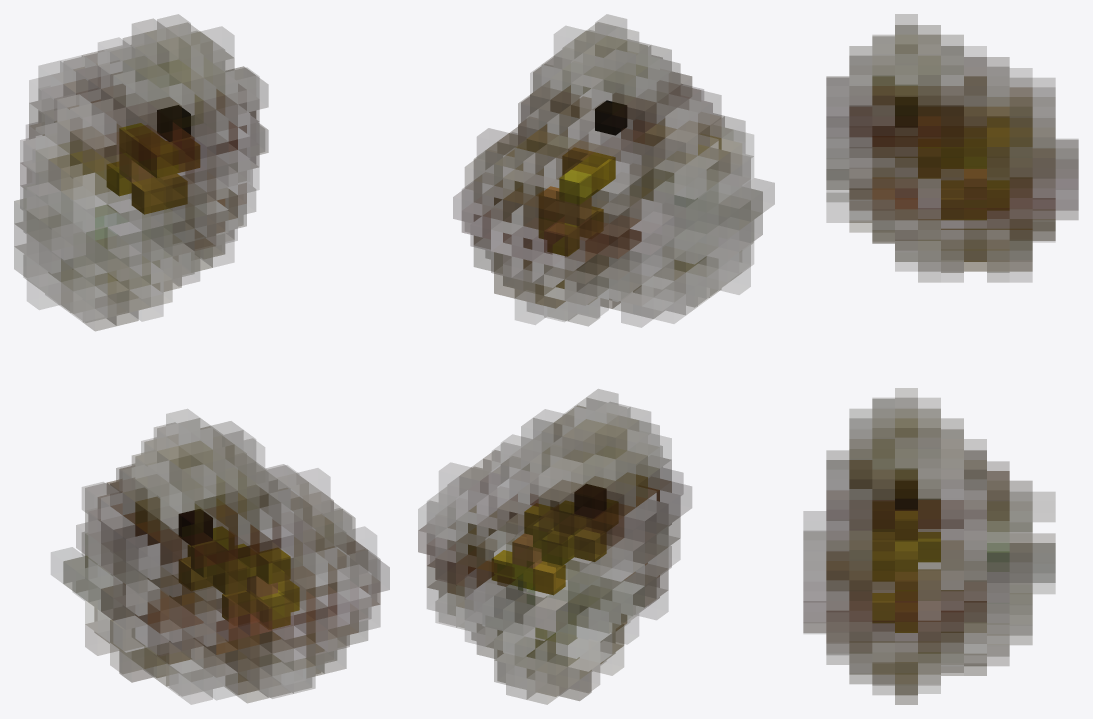
The model's file is iter_15.obj.
3 views of the same model, side by side, from view 1: azimuth 30°, elevation 25°; view 2: azimuth 150°, elevation 25°; view 3: azimuth 270°, elevation 25° (orthographic). The views are drawn at different scales.
Visible parts, largest first — view 1: iter_15; view 2: iter_15; view 3: iter_15.
Boxes of the visible parts, <box> form: iter_15: <box>14,14,389,704</box>; iter_15: <box>418,14,774,704</box>; iter_15: <box>803,14,1078,704</box>.
Bounding box in the file's own units: 1.5 × 3 × 1.2.
